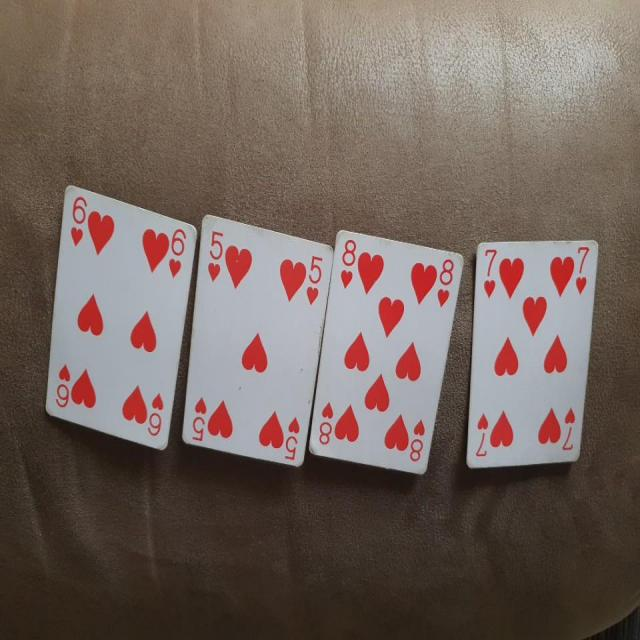5 Hearts: (172, 202, 333, 469)
6 Hearts: (41, 172, 208, 462)
7 Hearts: (462, 234, 599, 469)
8 Hearts: (312, 225, 467, 483)
